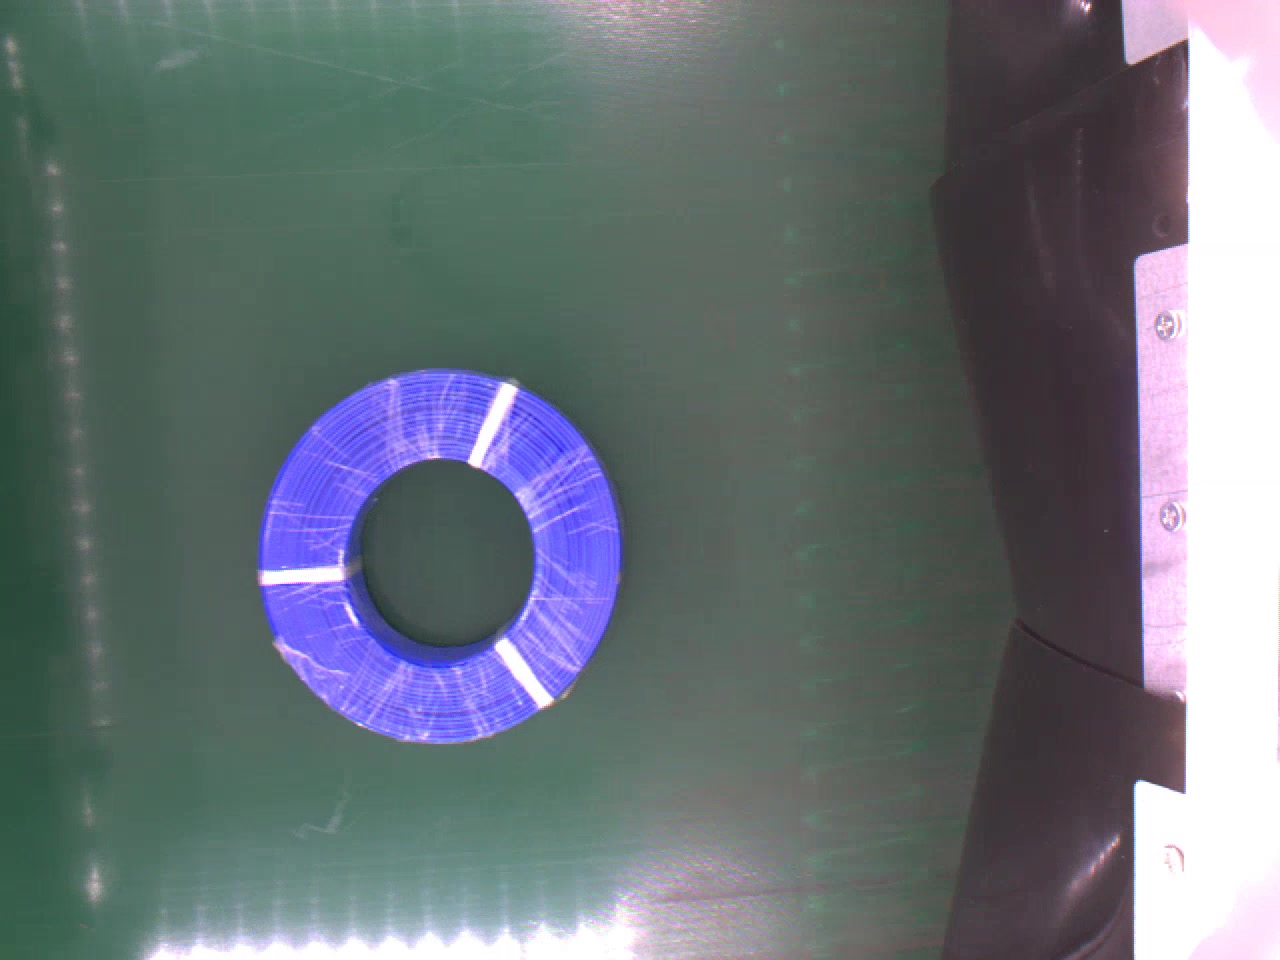blue: (249, 363, 629, 746)
